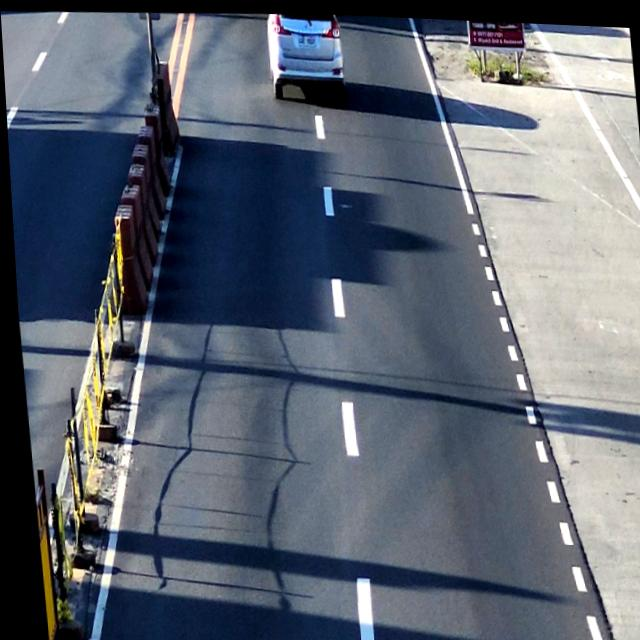Car: (266, 9, 345, 100)
License-Plate: (293, 29, 318, 46)
